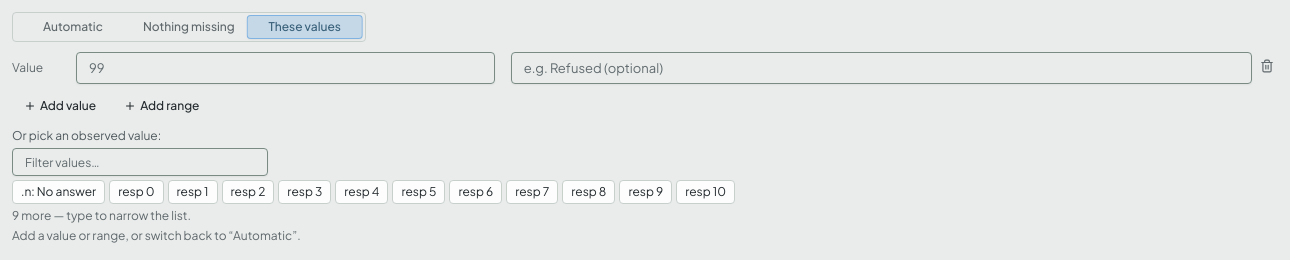
Test: MissingValueRows — the picker filter (#823a) › 🔴 finds a two-space value when the ONE-space form is typed
Type ".n: no answer" into the field with test id "mv-pick-filter" at (140, 162), box [12,148,268,176]
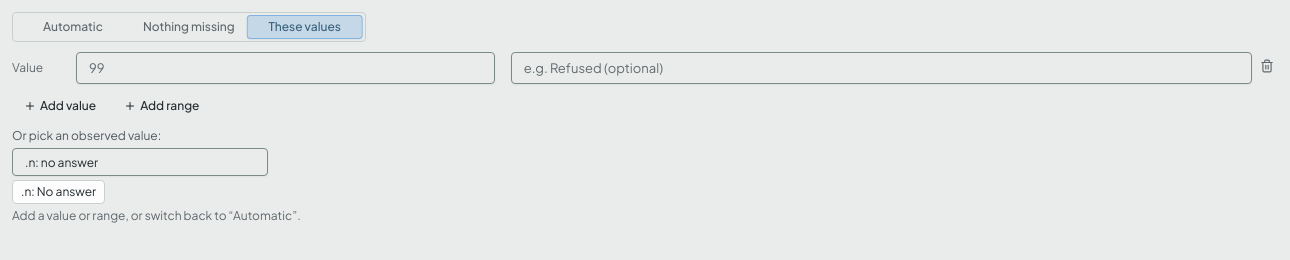
expect the number of buttons with test id "mv-pick" is 1: met
Click the button with test id "mv-pick" at (59, 192), box [12,180,105,204]
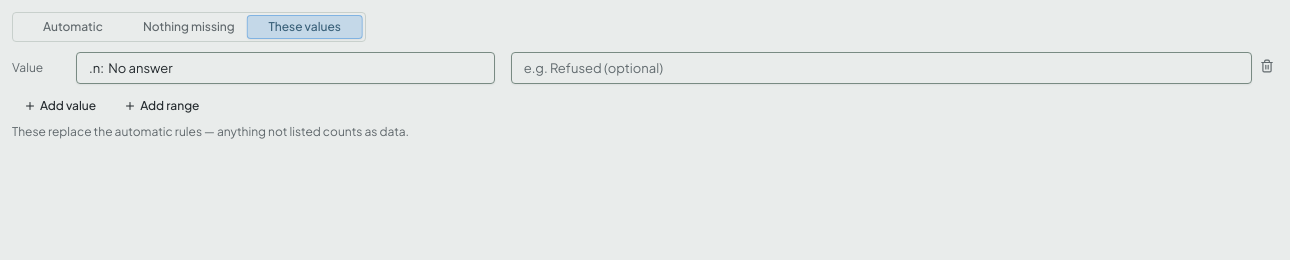
expect the field named "Missing value code for row 1" holds ".n:  No answer": met, box [76,52,495,84]
expect the field named "Missing value code for row 1" does not hold ".n: No answer": met, box [76,52,495,84]
